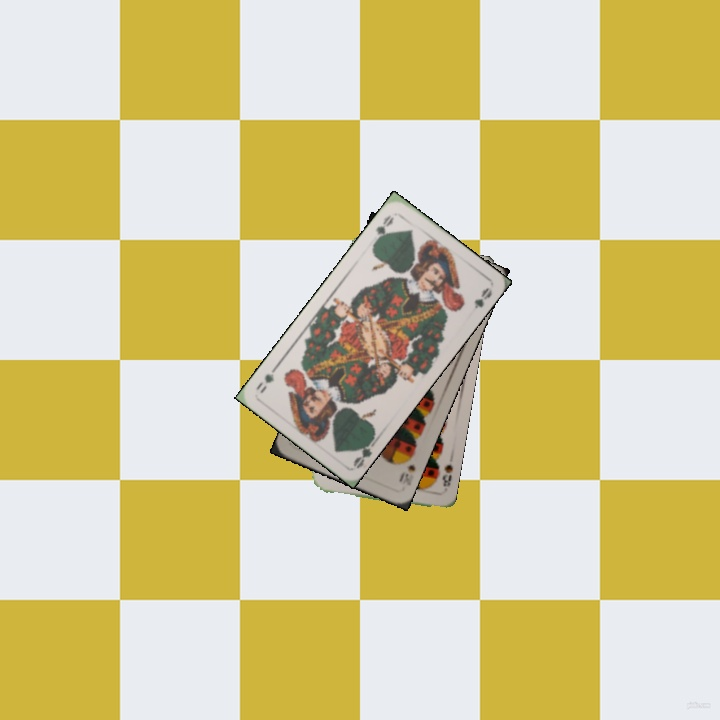GO: (349, 432, 380, 471), (370, 210, 397, 246)
S10: (395, 450, 418, 488)
S8: (438, 460, 456, 490)
